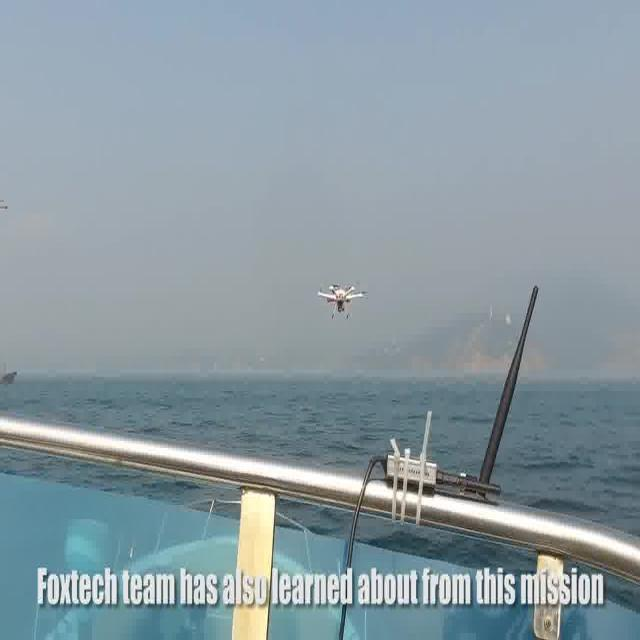drone: (314, 279, 368, 323)
